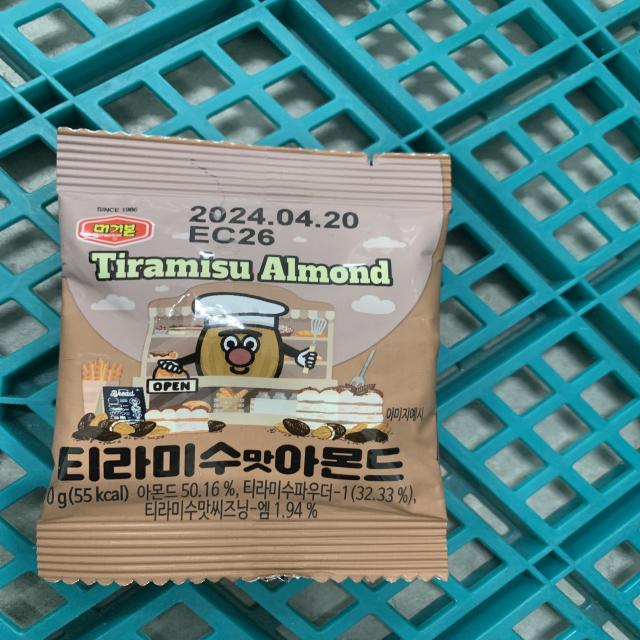object_name: (51, 125, 445, 576)
